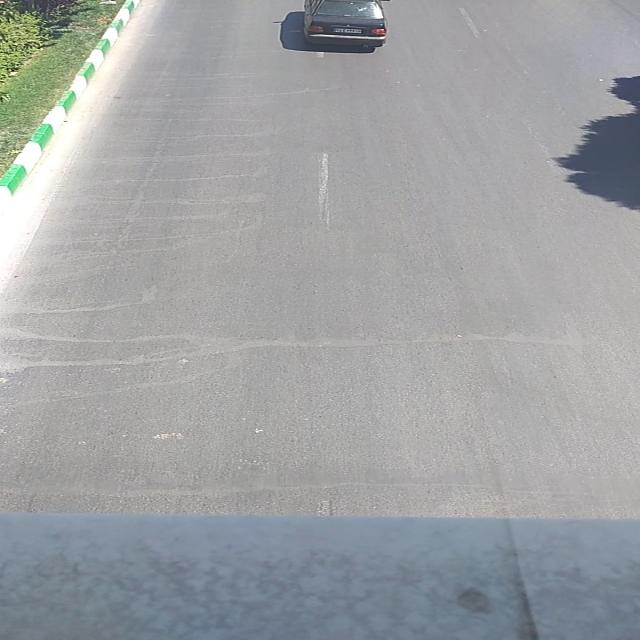car: (300, 0, 388, 48)
